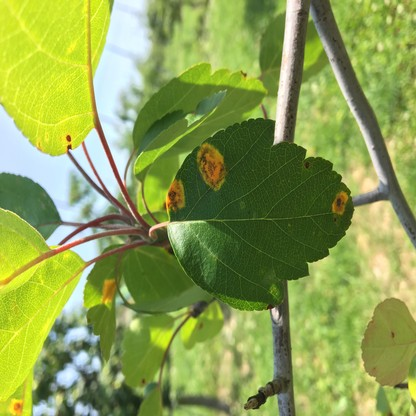frogeye_leaf_spot: (67, 135, 71, 142), (305, 162, 309, 169), (334, 218, 336, 222)
rust: (197, 145, 225, 189), (167, 180, 185, 210), (102, 278, 117, 306), (332, 191, 349, 214), (10, 398, 23, 415)
